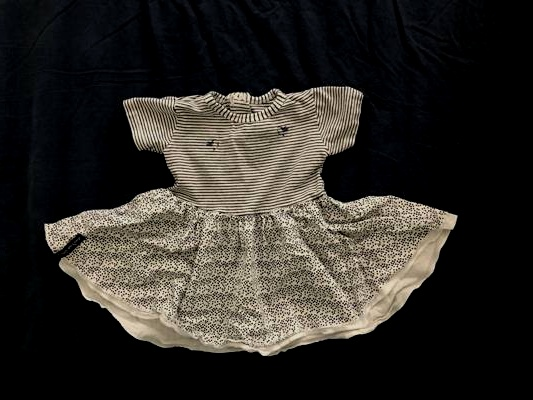Dress: (35, 25, 490, 355)
